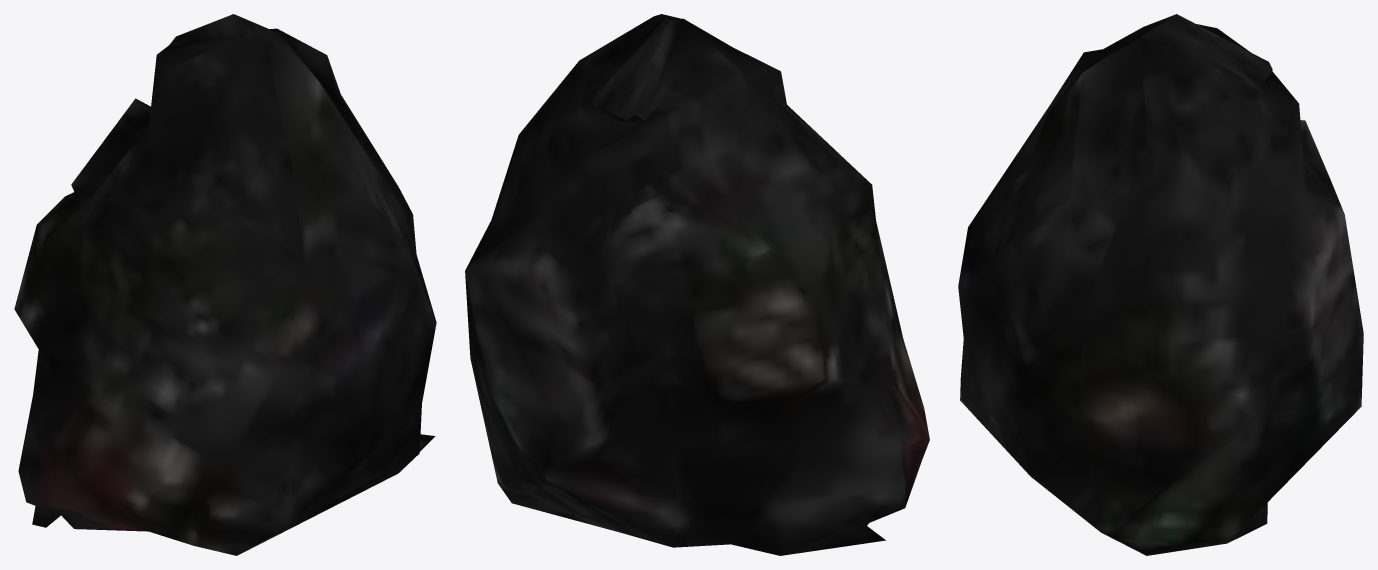
File: sac_poubelle_lod2.glb
The picture shows the model from 3 angles, left to right: view 1: azimuth 30°, elevation 25°; view 2: azimuth 150°, elevation 25°; view 3: azimuth 270°, elevation 25°; orthographic projection. The views are drawn at different scales.
Parts seen in each view (by area): view 1: trashbag; view 2: trashbag; view 3: trashbag.
Boxes of the visible parts, x1,y1,x2,y2 form: trashbag: (14, 14, 436, 555); trashbag: (465, 14, 929, 555); trashbag: (958, 14, 1363, 555).
Size of the model in its own units: 0.5237 by 0.5702 by 0.4552.
1 material, 1 textured.
